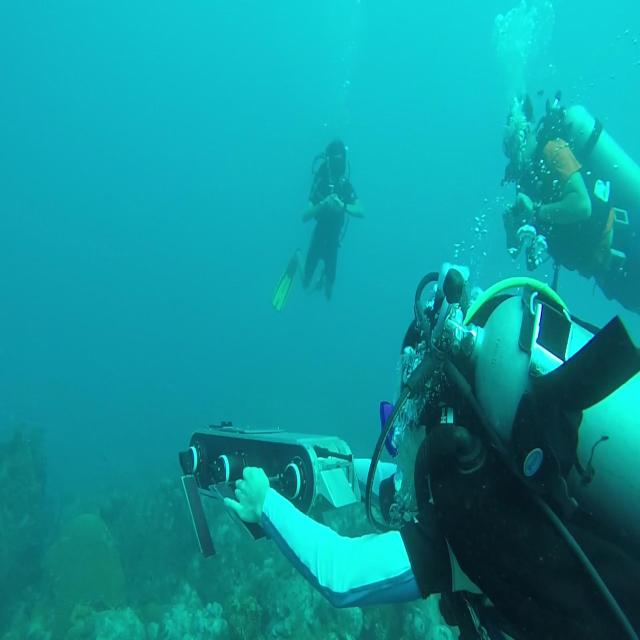human: (222, 268, 639, 638), (500, 89, 639, 315), (271, 138, 364, 312)
